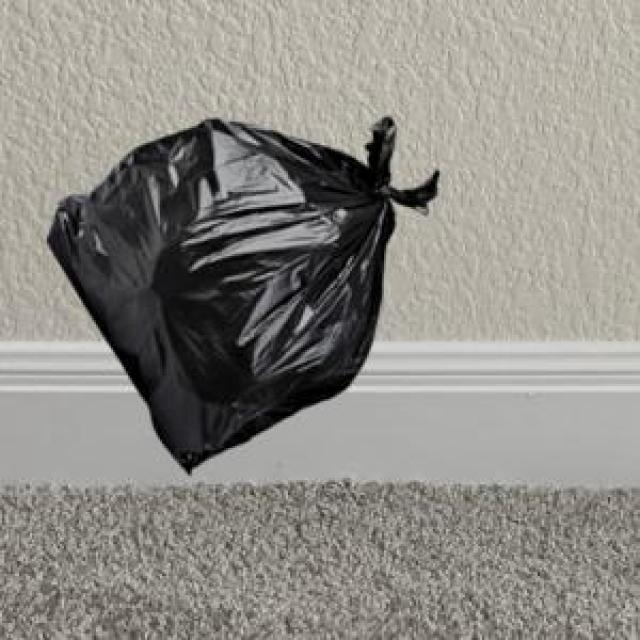miscellaneous trash: (43, 113, 435, 469)
